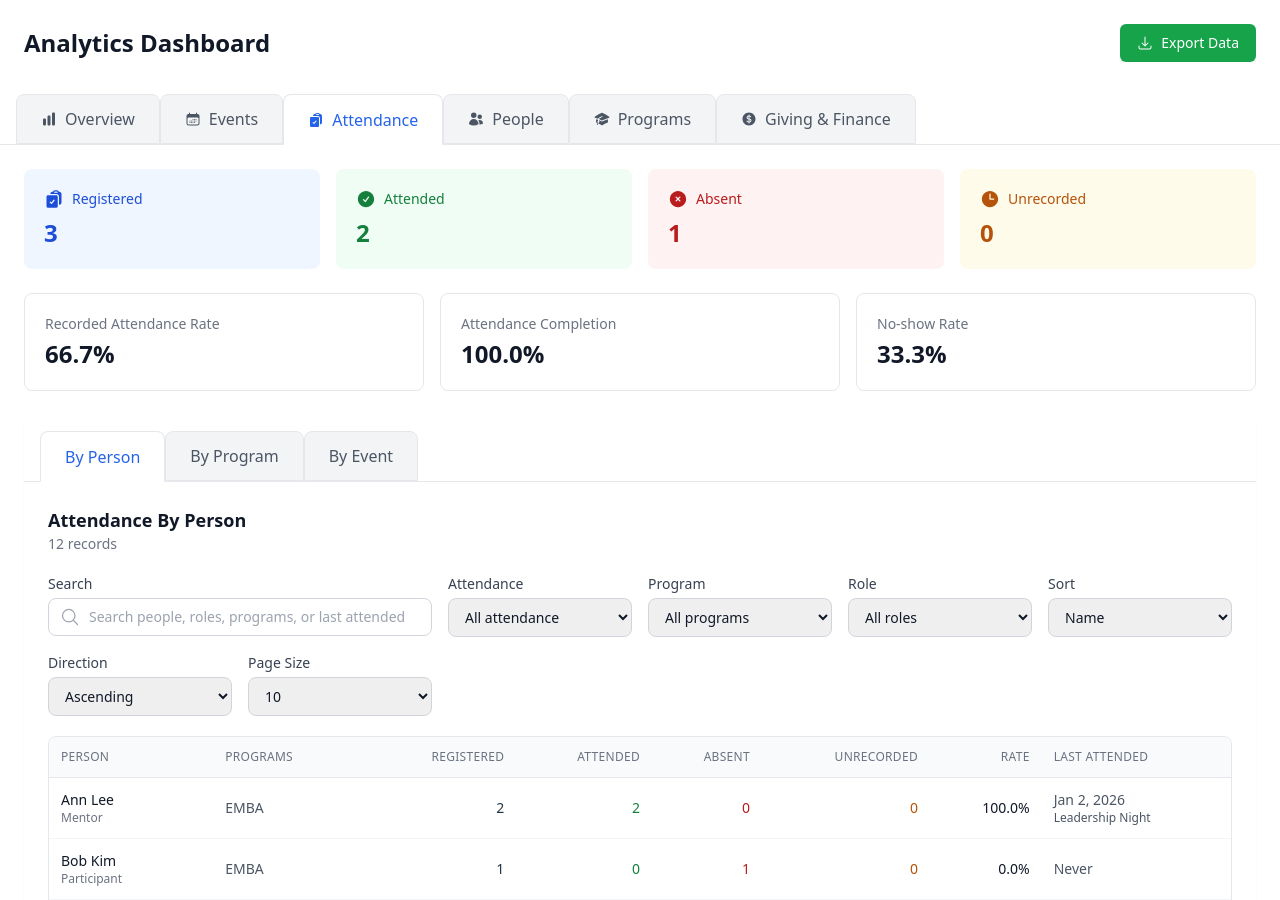
it: Analytics tabs › applies person search, filters, and sorting before pagination
expect the heading "Attendance By Person" is shown: met, box x1=48 y1=506 x2=246 y2=534
expect the text "Zara Park" is not shown: met
Type "Zra" into the search field labelled "Search" at point(240, 617), box x1=48 y1=598 x2=432 y2=636
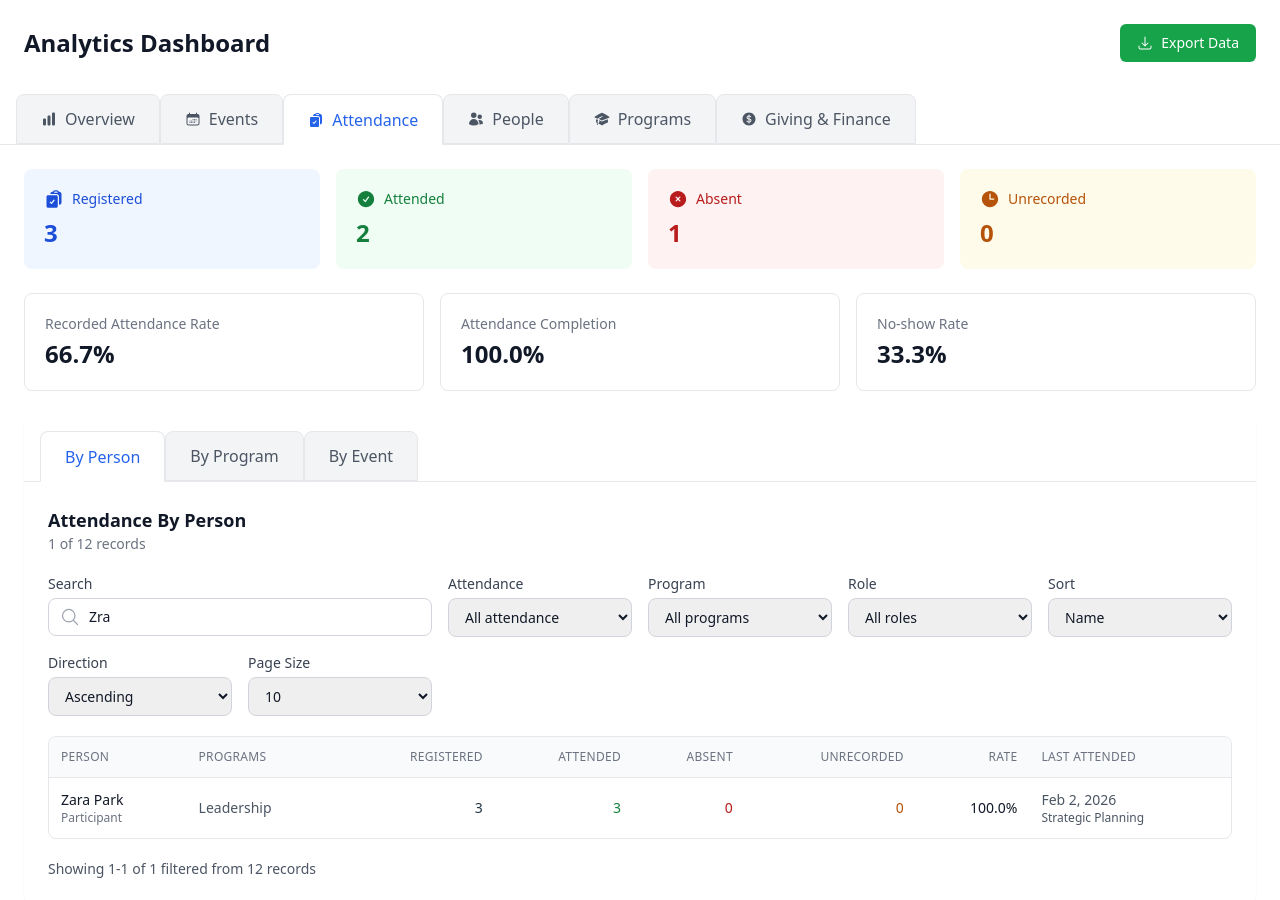
expect the text "Zara Park" is shown: met, box x1=61 y1=790 x2=124 y2=809
expect the text "1 of 12 records" is shown: met, box x1=48 y1=534 x2=146 y2=553
Clear the search field labelled "Search" at point(240, 617), box x1=48 y1=598 x2=432 y2=636
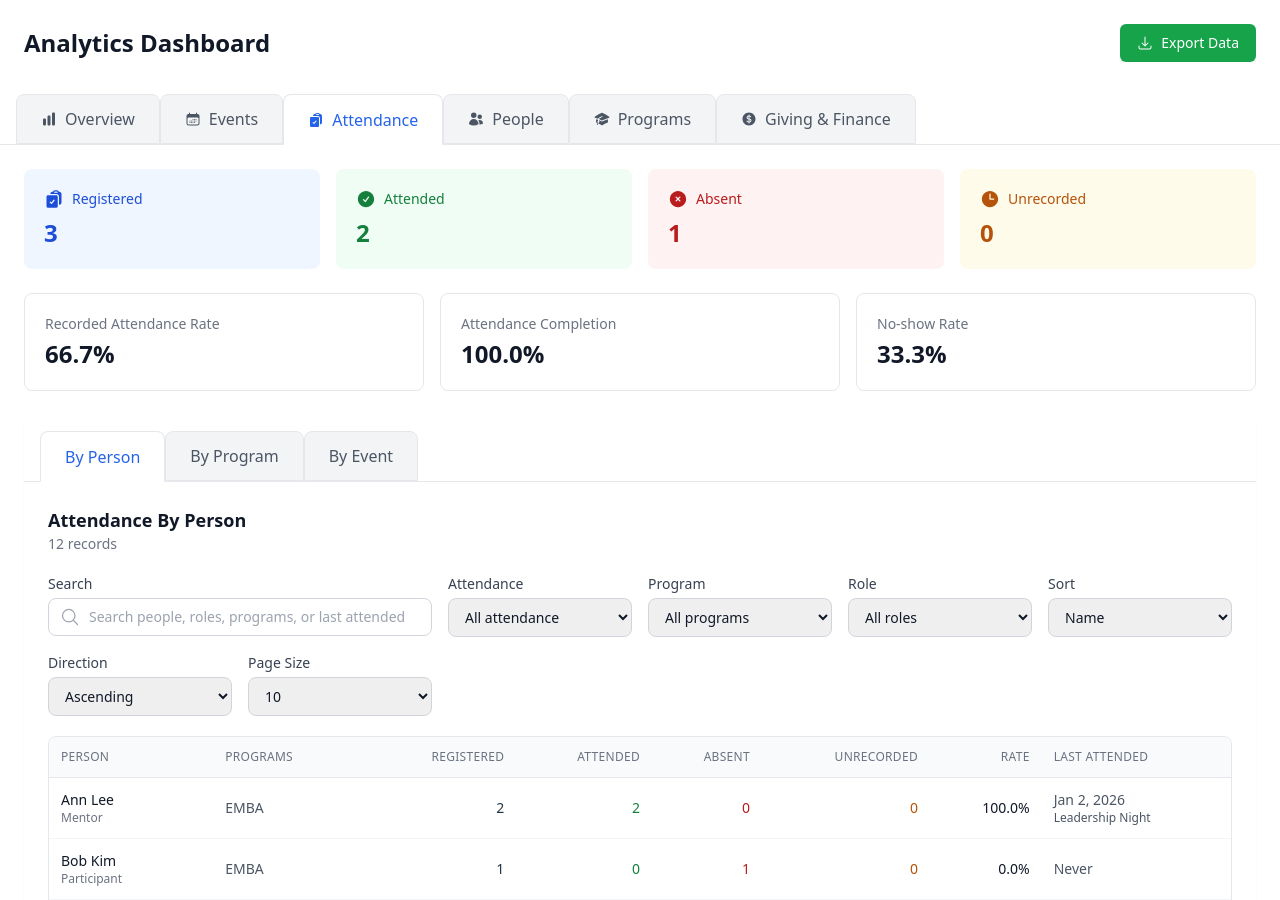
Select "Guest Expert" in the dropdown labelled "Role" at point(940, 618), box x1=848 y1=598 x2=1032 y2=637
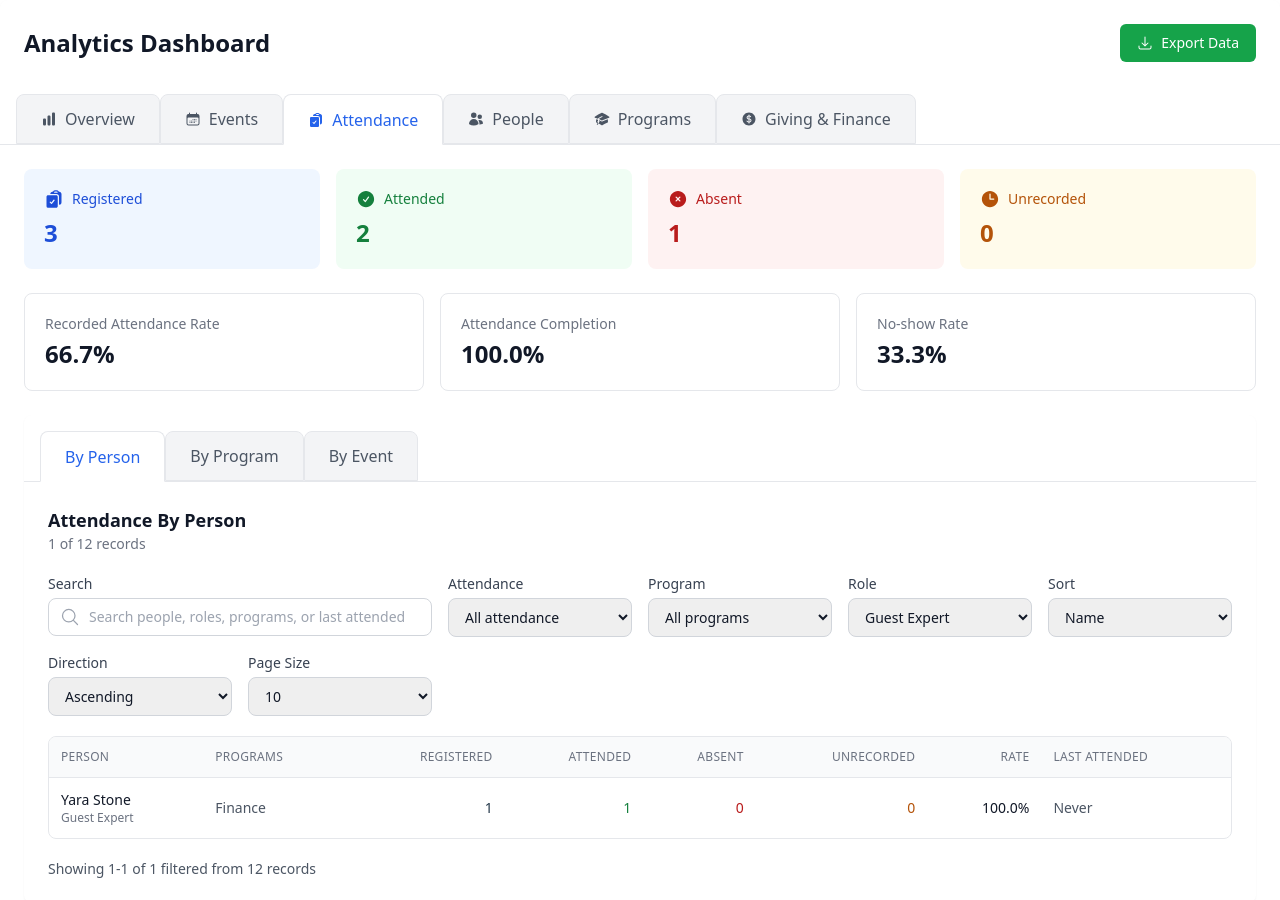
expect the text "Yara Stone" is shown: met, box x1=61 y1=790 x2=131 y2=809
expect the text "1 of 12 records" is shown: met, box x1=48 y1=534 x2=146 y2=553
Select "All roles" in the dropdown labelled "Role" at point(940, 618), box x1=848 y1=598 x2=1032 y2=637
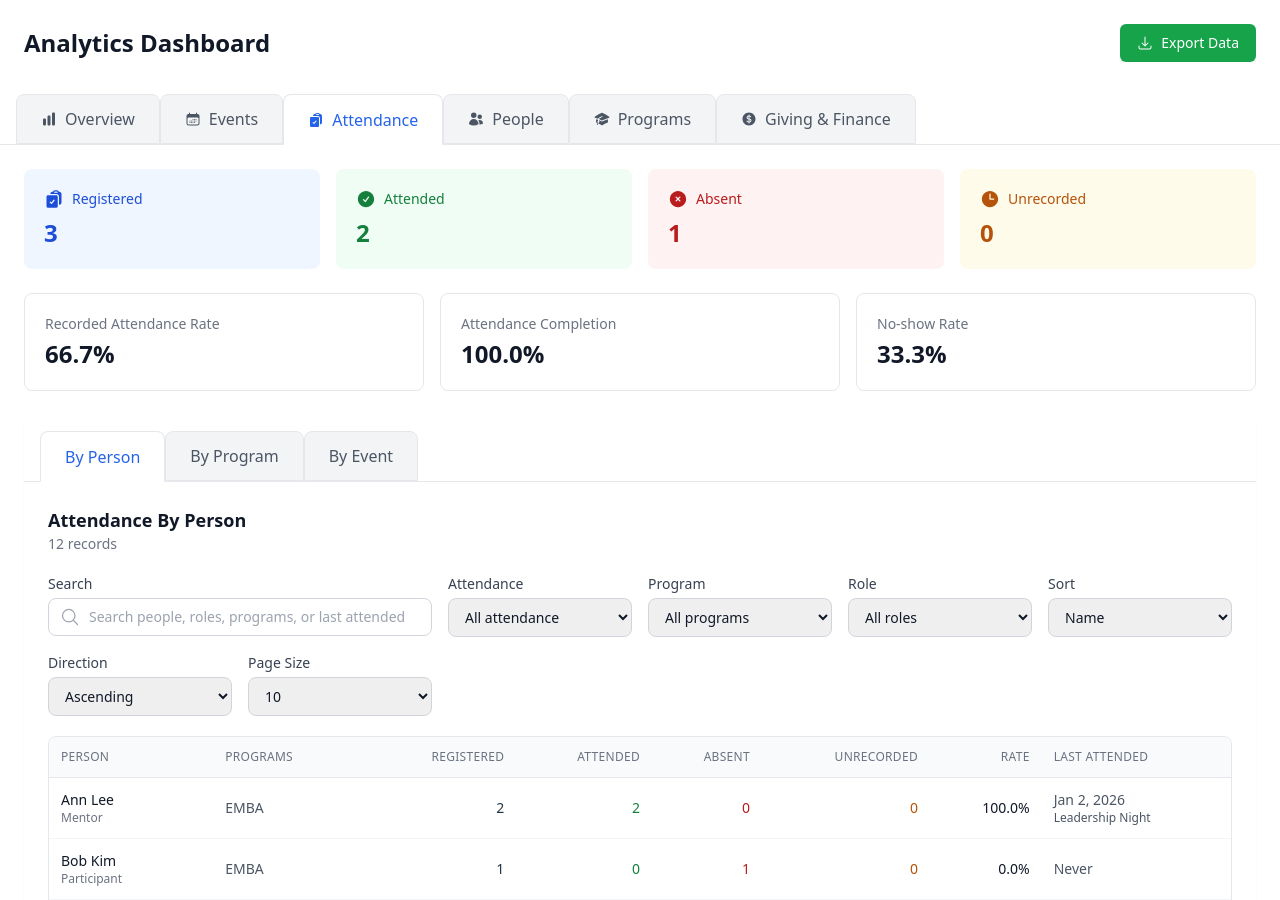
Select "Attended" in the dropdown labelled "Sort" at point(1140, 618), box x1=1048 y1=598 x2=1232 y2=637
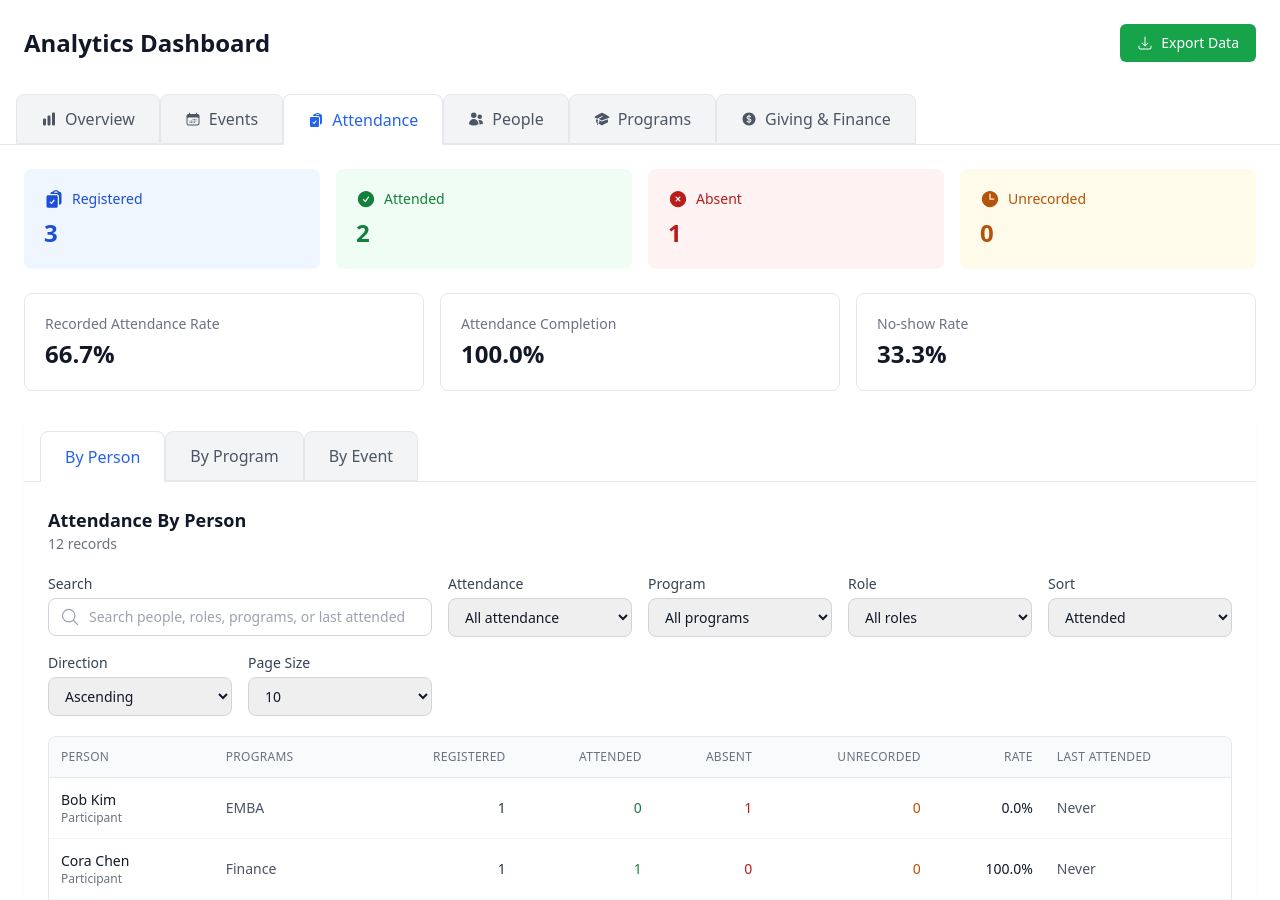
Select "Descending" in the dropdown labelled "Direction" at point(140, 696), box x1=48 y1=677 x2=232 y2=716
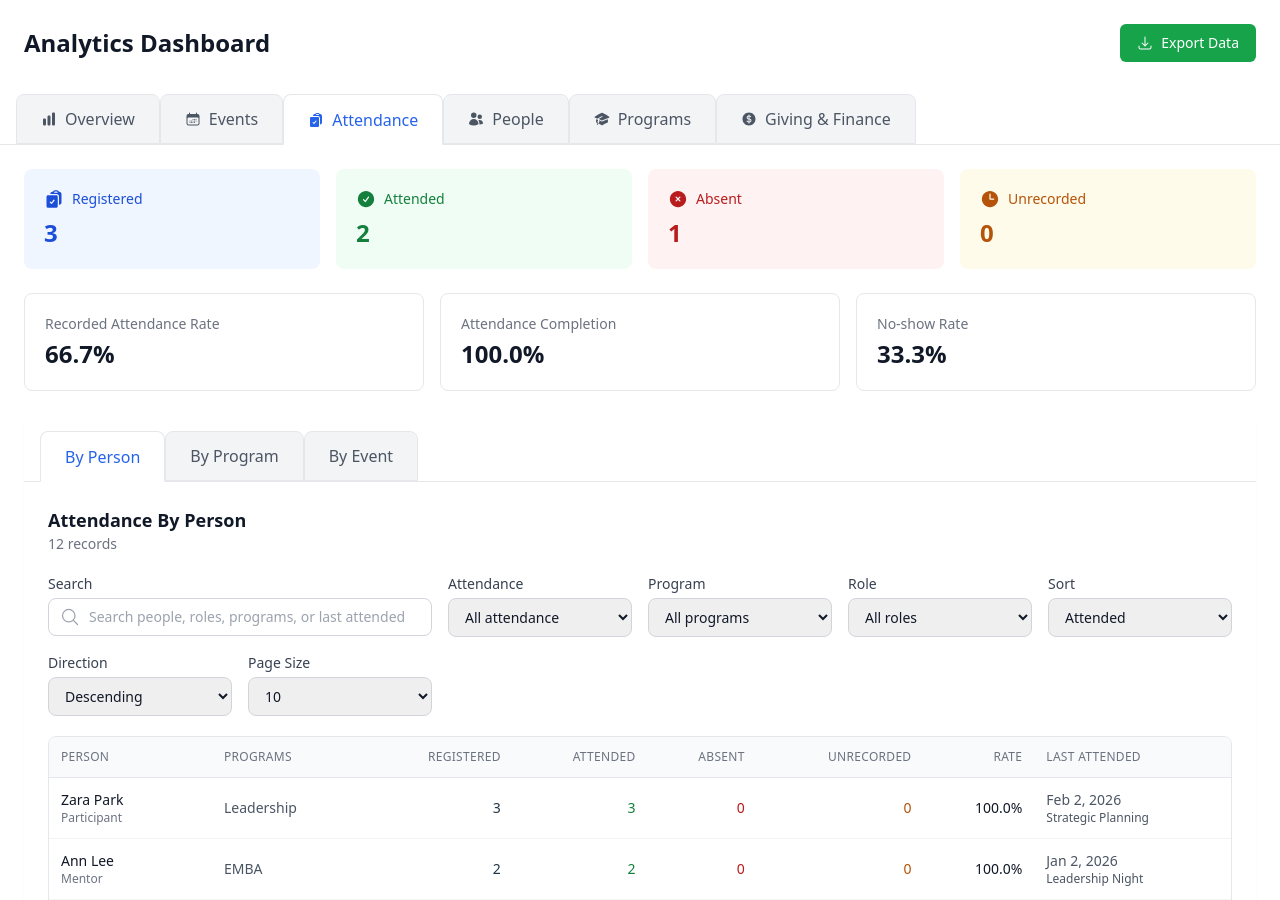
expect the text "Zara Park" is shown: met, box x1=61 y1=790 x2=124 y2=809
